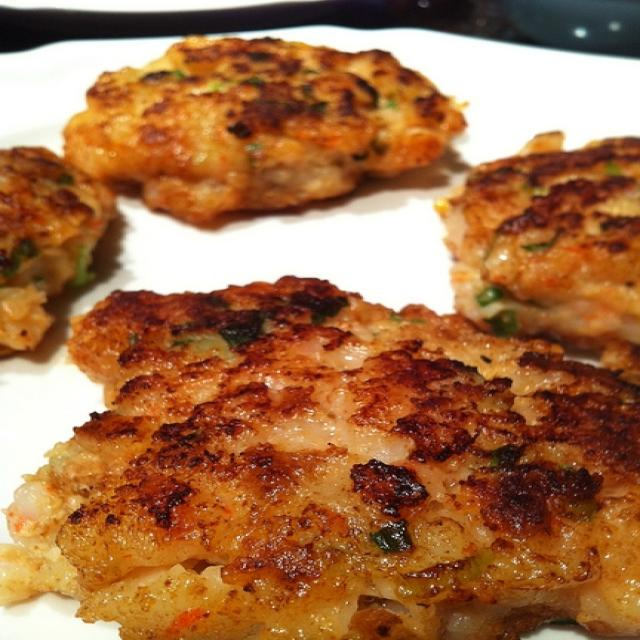炸货点心: (9, 27, 619, 629)
熟制海鲜: (9, 27, 619, 629)
